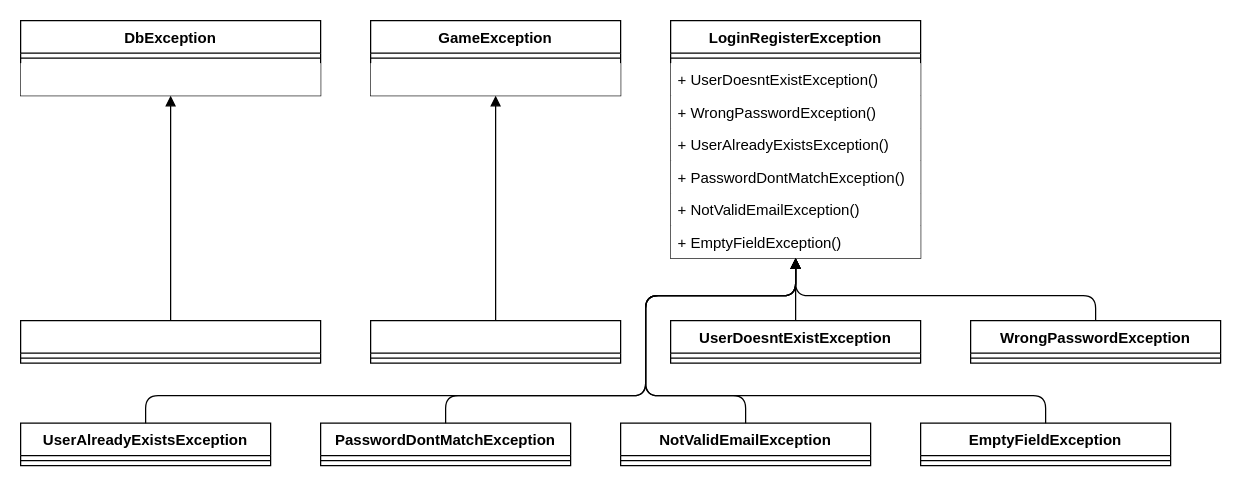
Some shapes in this 1241 by 486 pixel diagram are drawn without their labels. The centre of each missing label's shape, as x and y in pixels:
+ FailedDatabaseConnectionException(): (170,78)
+ GameAlreadyExistsException(): (495,78)
FailedDatabaseConnectionException: (170,341)
GameAlreadyExistsException: (495,341)
